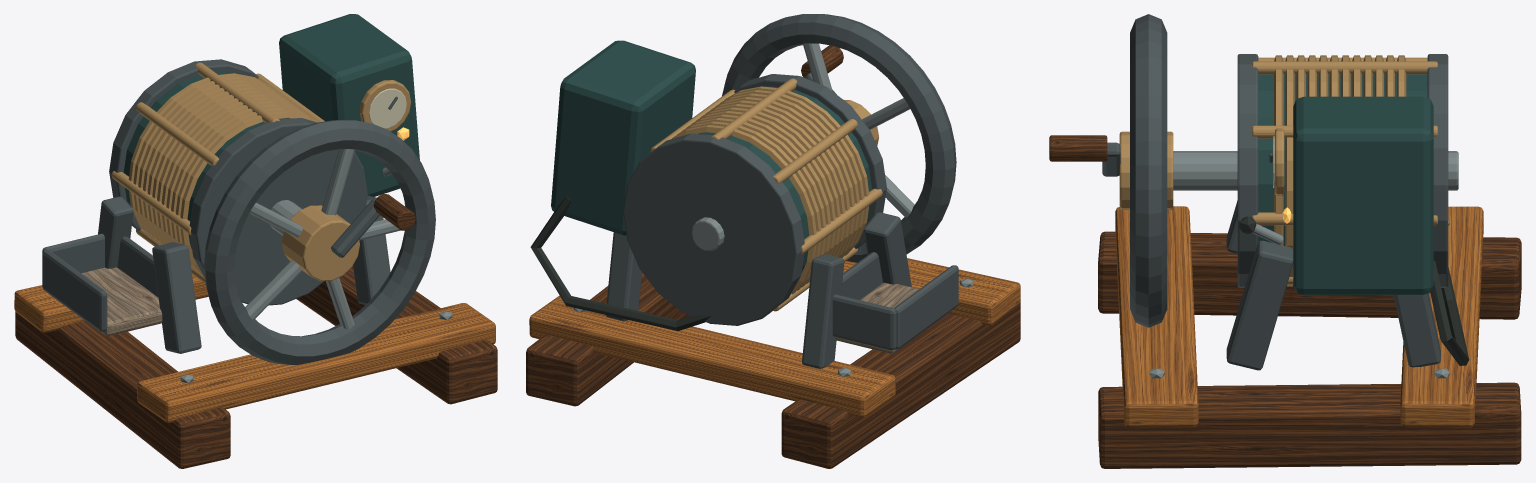
File: generator.glb
3 views of the same model, side by side, from view 1: azimuth 30°, elevation 25°; view 2: azimuth 150°, elevation 25°; view 3: azimuth 270°, elevation 25° (orthographic). The views are drawn at different scales.
Parts seen in each view (by area): view 1: GEO-generator-iron, GEO-generator-brass, GEO-generator-Wood-dark, GEO-generator-Wood-warm, GEO-generator-teal, GEO-generator-rim, GEO-generator-Wood-grey, GEO-generator-ivory; view 2: GEO-generator-iron, GEO-generator-Wood-dark, GEO-generator-teal, GEO-generator-Wood-warm, GEO-generator-brass, GEO-generator-rim, GEO-generator-rubber, GEO-generator-Wood-grey; view 3: GEO-generator-Wood-dark, GEO-generator-teal, GEO-generator-iron, GEO-generator-Wood-warm, GEO-generator-brass, GEO-generator-rim, GEO-generator-rubber.
Boxes of the visible parts, box(x1,y1,x2,y2) form: GEO-generator-iron: box(42, 59, 435, 364); GEO-generator-brass: box(111, 62, 411, 283); GEO-generator-Wood-dark: box(15, 194, 497, 468); GEO-generator-Wood-warm: box(14, 274, 495, 422); GEO-generator-teal: box(123, 14, 419, 248); GEO-generator-rim: box(180, 149, 452, 383); GEO-generator-Wood-grey: box(49, 267, 162, 335); GEO-generator-ivory: box(369, 88, 406, 128); GEO-generator-iron: box(605, 14, 958, 368); GEO-generator-Wood-dark: box(526, 45, 1020, 468); GEO-generator-teal: box(551, 40, 871, 271); GEO-generator-Wood-warm: box(529, 258, 1020, 417); GEO-generator-brass: box(650, 78, 882, 311); GEO-generator-rim: box(573, 43, 973, 376); GEO-generator-rubber: box(530, 196, 710, 330); GEO-generator-Wood-grey: box(834, 282, 951, 353); GEO-generator-Wood-dark: box(1049, 135, 1521, 468); GEO-generator-teal: box(1258, 74, 1433, 294); GEO-generator-iron: box(1102, 14, 1448, 370); GEO-generator-Wood-warm: box(1115, 206, 1483, 427); GEO-generator-brass: box(1119, 55, 1437, 286); GEO-generator-rim: box(1149, 151, 1458, 378); GEO-generator-rubber: box(1239, 216, 1469, 365).
Bounding box in the file's own units: 1.15 × 0.935 × 1.14.
Materials: 10 (3 with a texture image).
